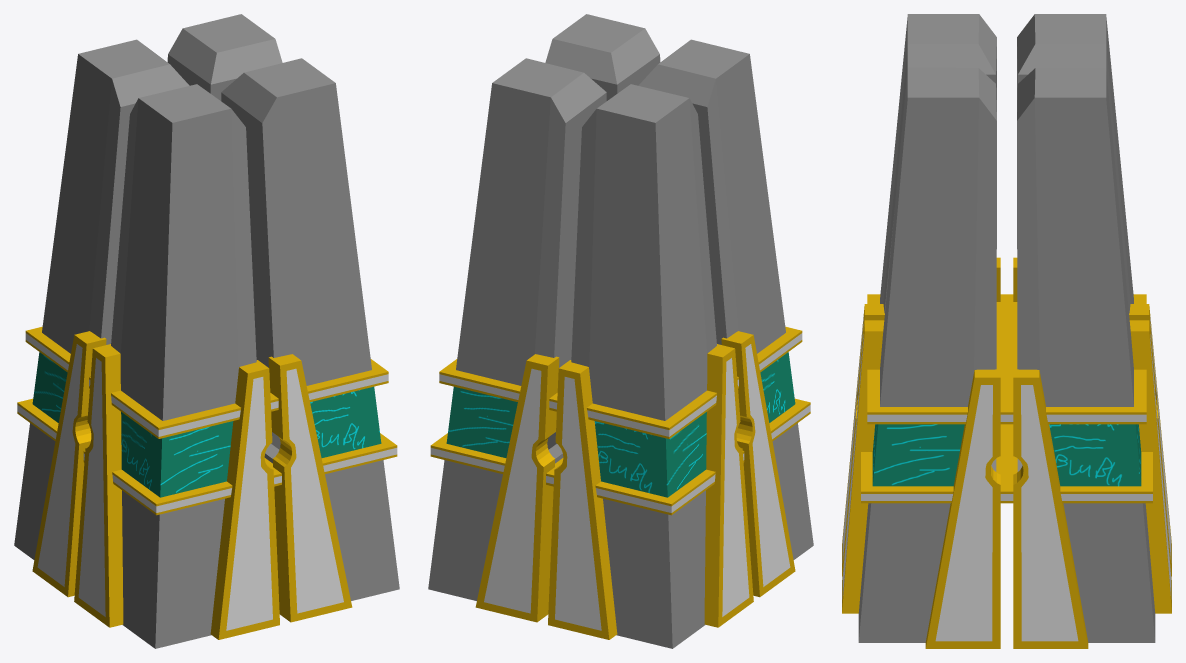
Rendered from Top.fbx.
The picture shows the model from 3 angles, left to right: view 1: azimuth 30°, elevation 25°; view 2: azimuth 150°, elevation 25°; view 3: azimuth 270°, elevation 25°; orthographic projection. The views are drawn at different scales.
Visible parts, largest first — view 1: TopBlock2, TopSideTriangles, TopBlock3, TopBlock4, TopBlock, TopHorizontalBlock, TopHorizontalBlock2; view 2: TopBlock4, TopSideTriangles, TopBlock, TopBlock2, TopBlock3, TopHorizontalBlock, TopHorizontalBlock2; view 3: TopBlock3, TopBlock, TopSideTriangles, TopHorizontalBlock, TopBlock4, TopBlock2, TopHorizontalBlock2.
Part boxes in pixels (left/top/right/bottom): TopBlock2: left=111, top=84, right=256, bottom=648; TopSideTriangles: left=32, top=331, right=352, bottom=639; TopBlock3: left=221, top=58, right=399, bottom=600; TopBlock4: left=14, top=39, right=189, bottom=559; TopBlock: left=167, top=14, right=282, bottom=100; TopHorizontalBlock: left=25, top=326, right=388, bottom=438; TopHorizontalBlock2: left=17, top=398, right=397, bottom=515; TopBlock4: left=571, top=84, right=716, bottom=648; TopSideTriangles: left=475, top=331, right=795, bottom=639; TopBlock: left=428, top=58, right=606, bottom=600; TopBlock2: left=638, top=39, right=813, bottom=559; TopBlock3: left=545, top=14, right=660, bottom=100; TopHorizontalBlock: left=439, top=326, right=802, bottom=438; TopHorizontalBlock2: left=430, top=398, right=810, bottom=515; TopBlock3: left=858, top=67, right=996, bottom=642; TopBlock: left=1017, top=67, right=1155, bottom=642; TopSideTriangles: left=842, top=257, right=1171, bottom=648; TopHorizontalBlock: left=867, top=294, right=1146, bottom=424; TopBlock4: left=1017, top=14, right=1133, bottom=313; TopBlock2: left=880, top=14, right=996, bottom=313; TopHorizontalBlock2: left=861, top=424, right=1152, bottom=503.
Size of the model in its own units: 508 by 891 by 508.
Materials: 4 (1 with a texture image).
